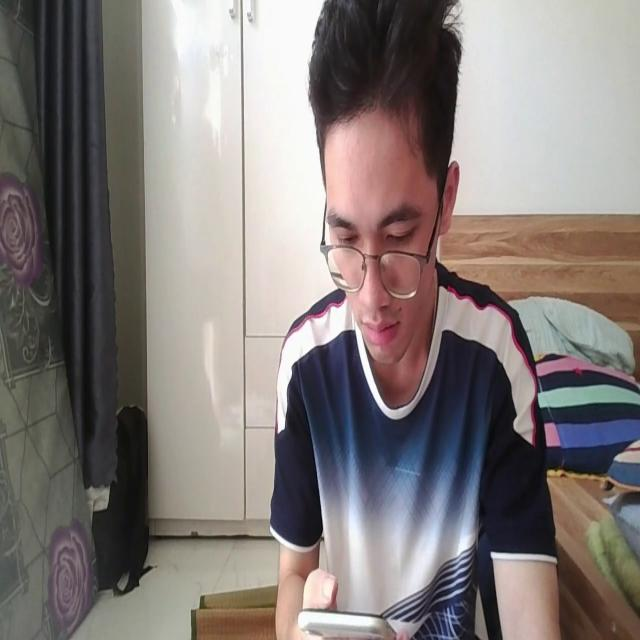phone: (298, 600, 394, 640)
student: (268, 0, 566, 640)
